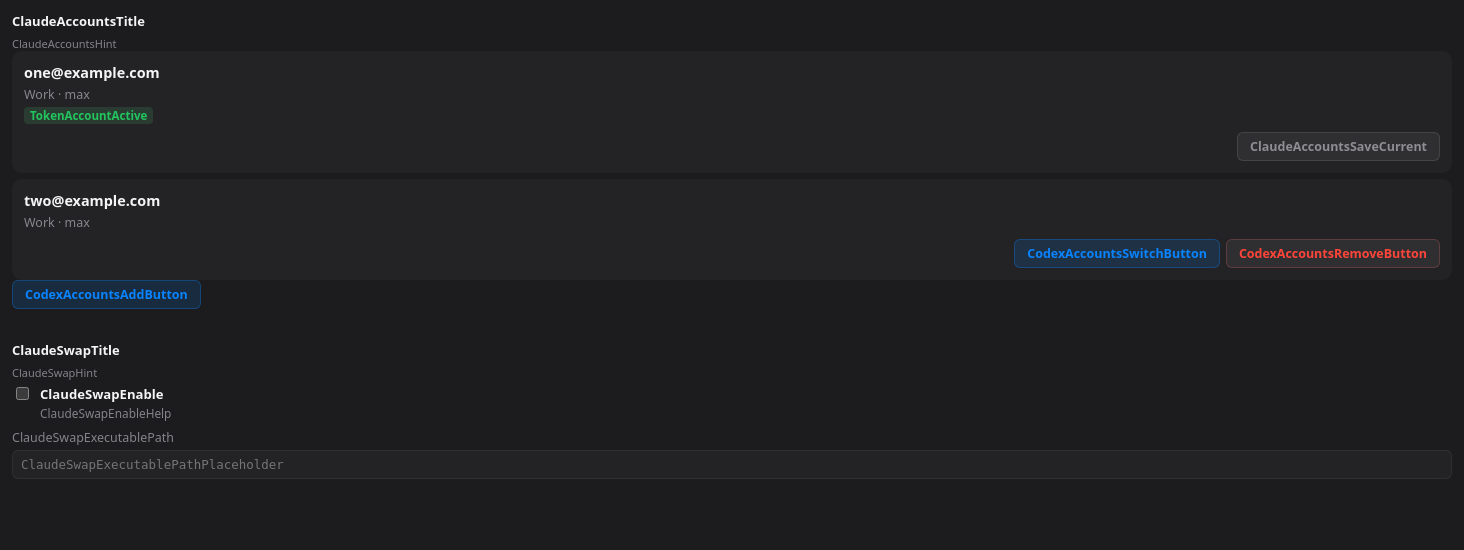
Test: ClaudeAccountsSection › keeps mutations disabled across an account update during browser login and supports cancel
The width and height of the screenshot is (1464, 550).
Check: the text "one@example.com" is shown, box [24, 63, 160, 82]
Click the button "CodexAccountsAddButton". click: coordinates (106, 295)
box: [12, 280, 201, 309]
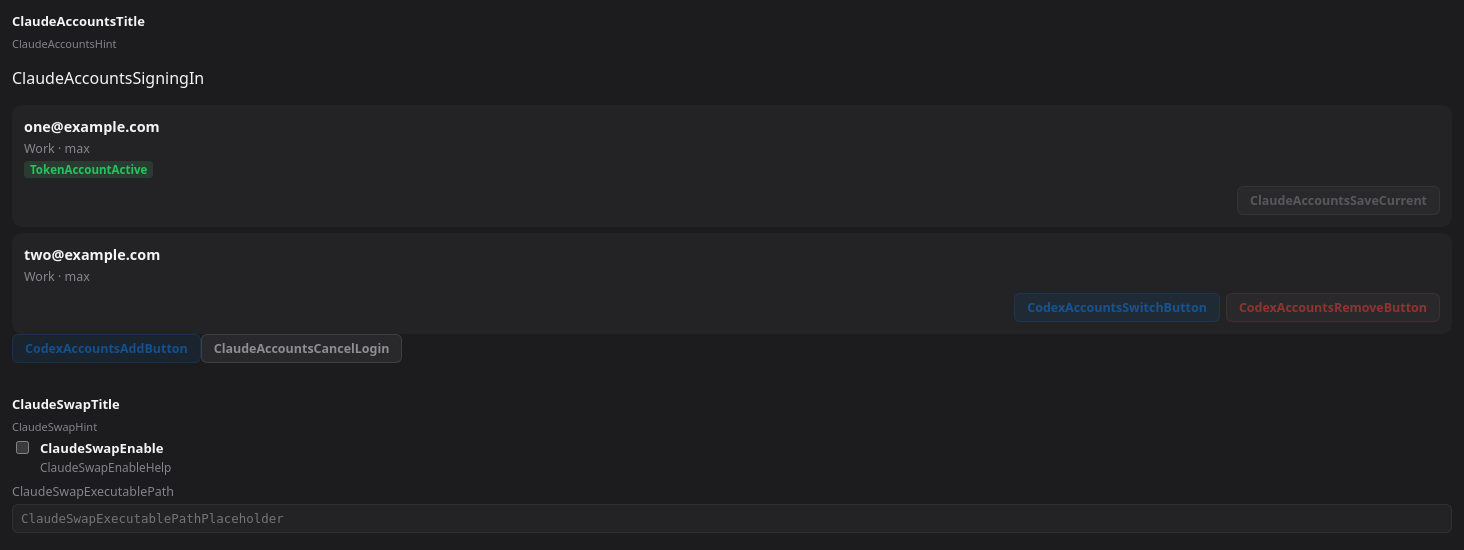
Check: the button "CodexAccountsSwitchButton" is disabled, box [1014, 293, 1220, 322]
Click the button "ClaudeAccountsCancelLogin". click: coordinates (302, 349)
box: [201, 334, 402, 363]
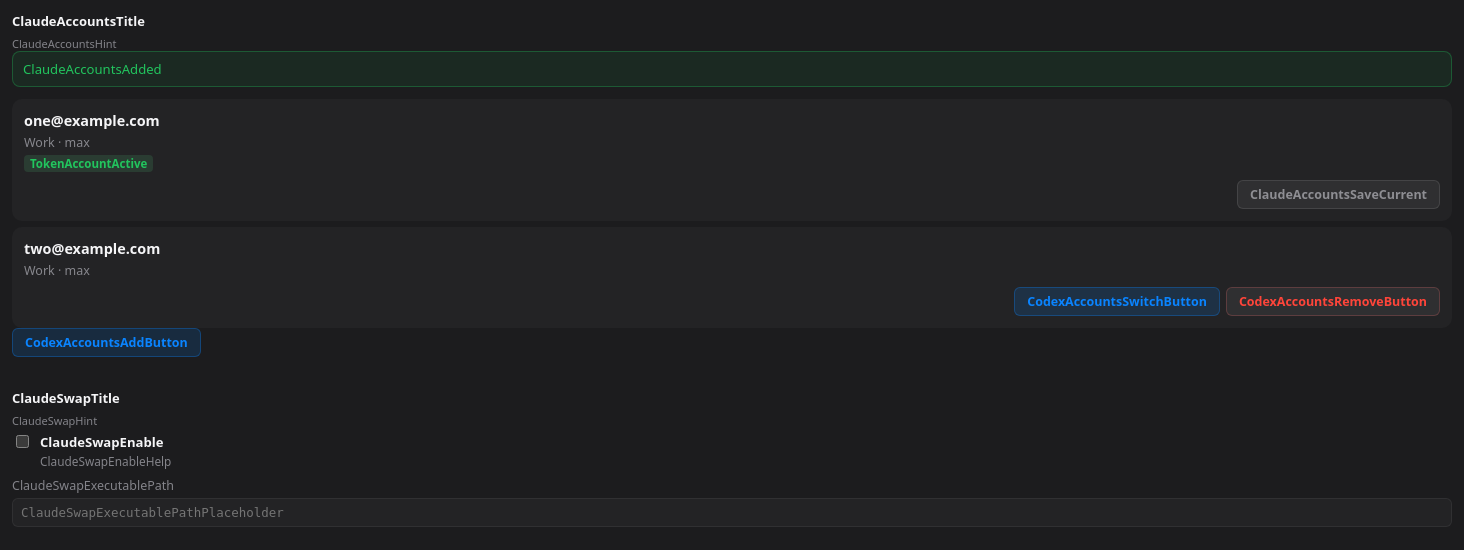
Check: the button "ClaudeAccountsCancelLogin" is gone
Check: the button "CodexAccountsAddButton" is enabled, box [12, 328, 201, 357]
